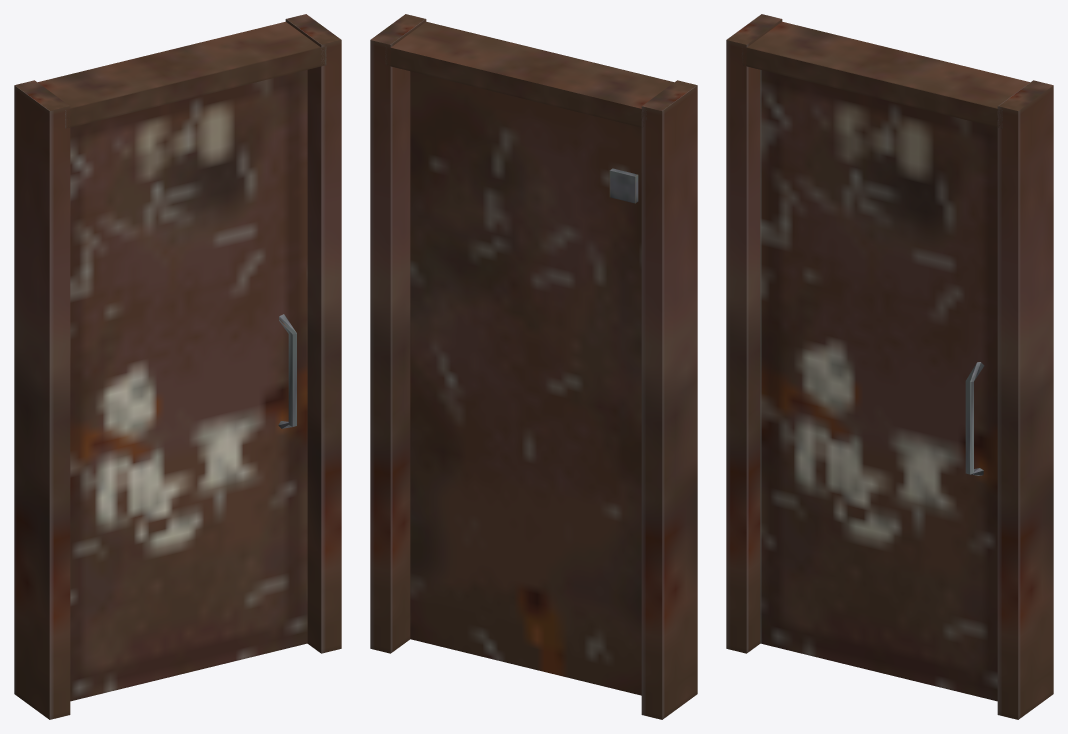
File: door_entrance.fbx
3 views of the same model, side by side, from view 1: azimuth 30°, elevation 25°; view 2: azimuth 150°, elevation 25°; view 3: azimuth 330°, elevation 25° (orthographic).
Parts seen in each view (by area): view 1: door_entrance_leaf, door_entrance, door_entrance_casing_r, door_entrance_casing_top; view 2: door_entrance_leaf, door_entrance, door_entrance_casing_r, door_entrance_casing_top; view 3: door_entrance_leaf, door_entrance_casing_r, door_entrance, door_entrance_casing_top.
Boxes of the visible parts, box(x1,y1,x2,y2) form: door_entrance_leaf: box(70, 70, 307, 701); door_entrance: box(14, 80, 70, 719); door_entrance_casing_r: box(285, 14, 341, 653); door_entrance_casing_top: box(38, 21, 326, 128); door_entrance_leaf: box(410, 71, 641, 695); door_entrance: box(641, 80, 697, 719); door_entrance_casing_r: box(370, 14, 426, 653); door_entrance_casing_top: box(385, 21, 673, 127); door_entrance_leaf: box(760, 70, 997, 701); door_entrance_casing_r: box(997, 80, 1053, 719); door_entrance: box(726, 14, 782, 653); door_entrance_casing_top: box(742, 21, 1029, 128).
Size of the model in its own units: 1.14 by 2.27 by 0.2519.
